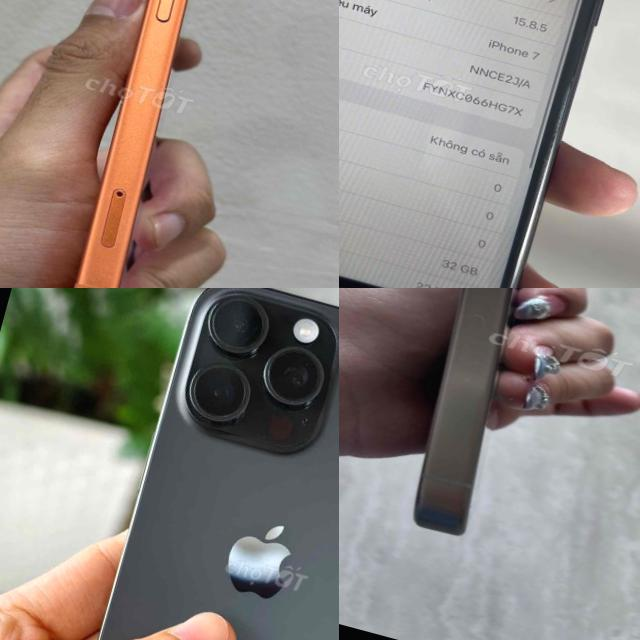scratch: (540, 61, 580, 166)
